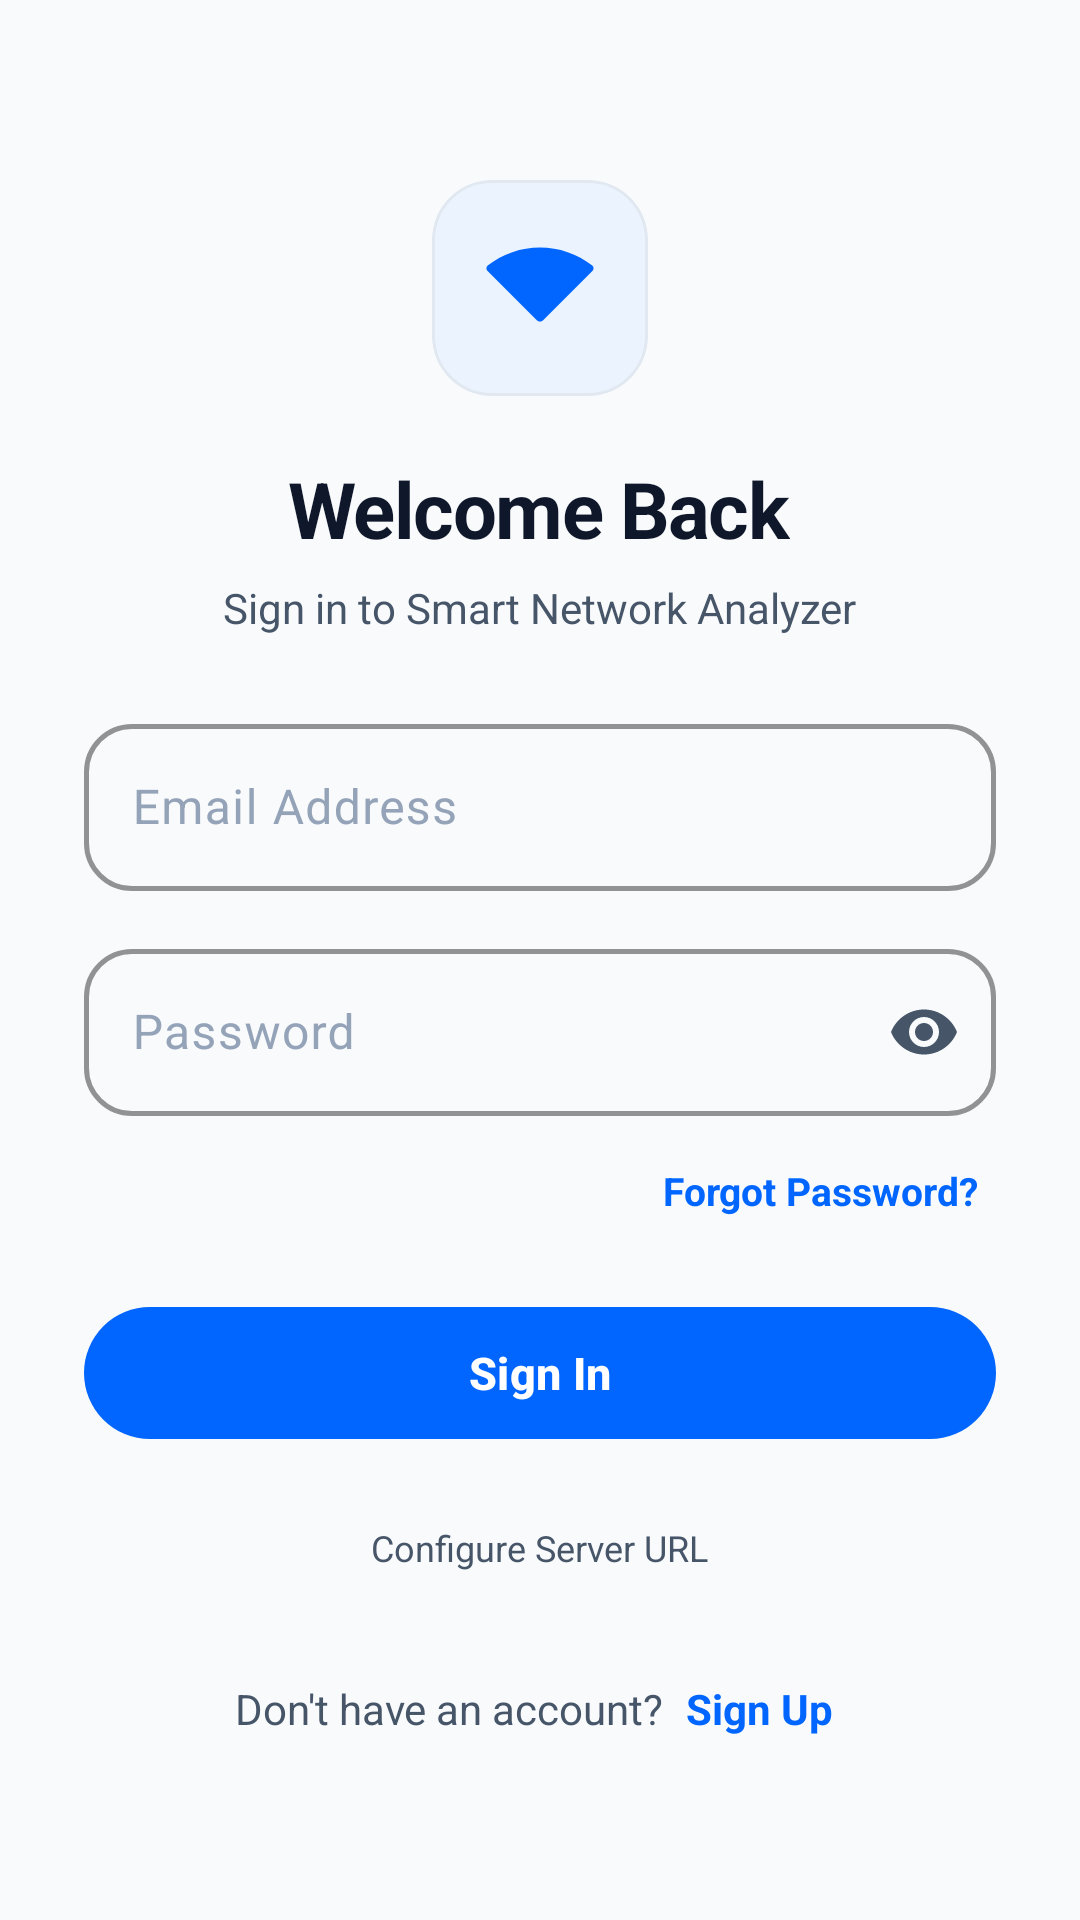

Icon bounding boxes for this 1080px×1920px phone screenshot, format (x1, y1, x2, y2):
wifi: (486, 247, 594, 322)
